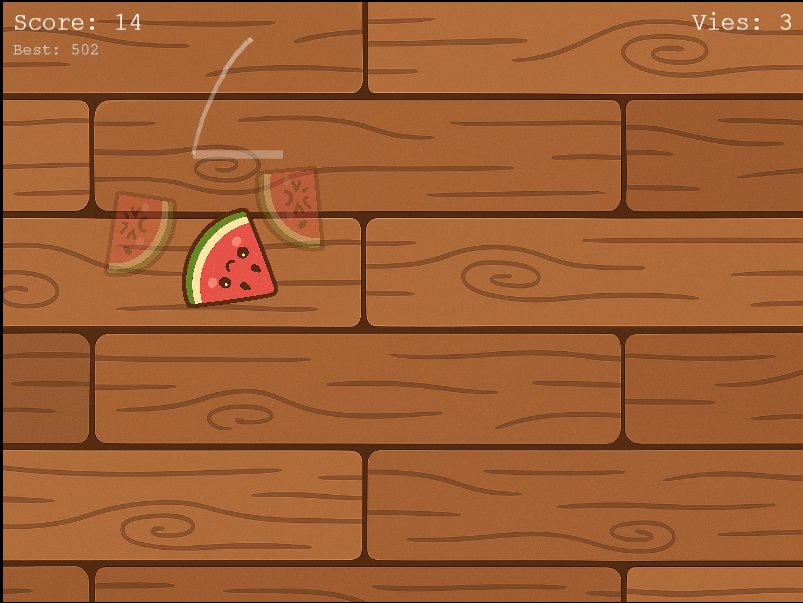fruit: (176, 205, 285, 312)
